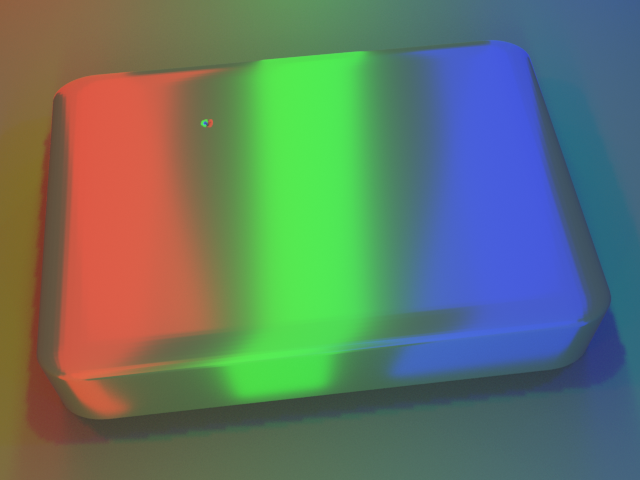dent: (181, 96, 211, 131)
